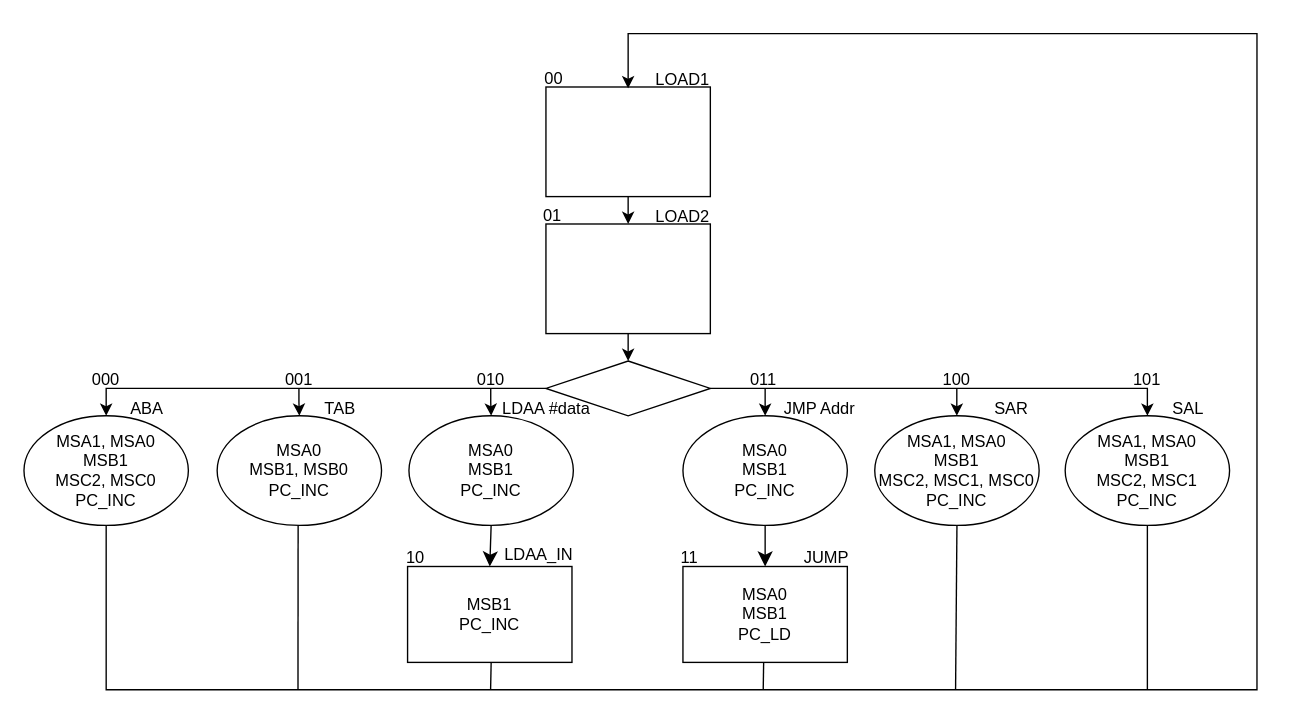
Image size: 1292x725. Some labels were removed from this diagram. Each missing label, with the box of its shape:
IR.LD MSA0 MSB1: (545, 86, 710, 197)
IR2, IR1, IR0: (545, 360, 710, 416)
